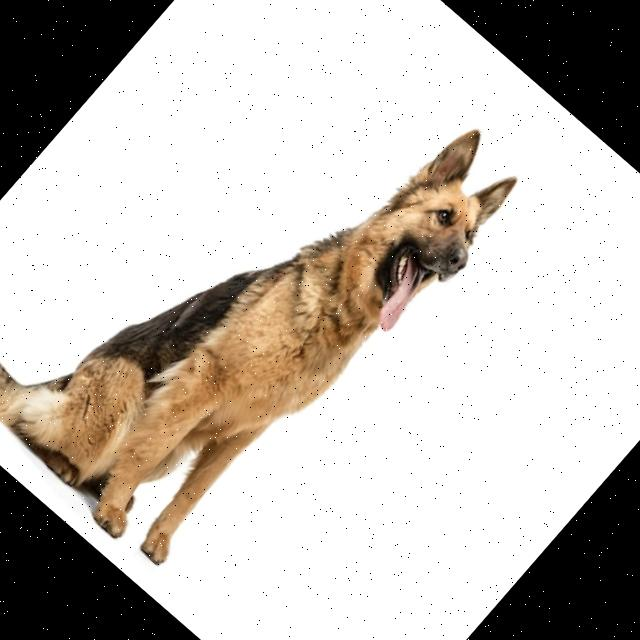Dog: (0, 0, 540, 597)
